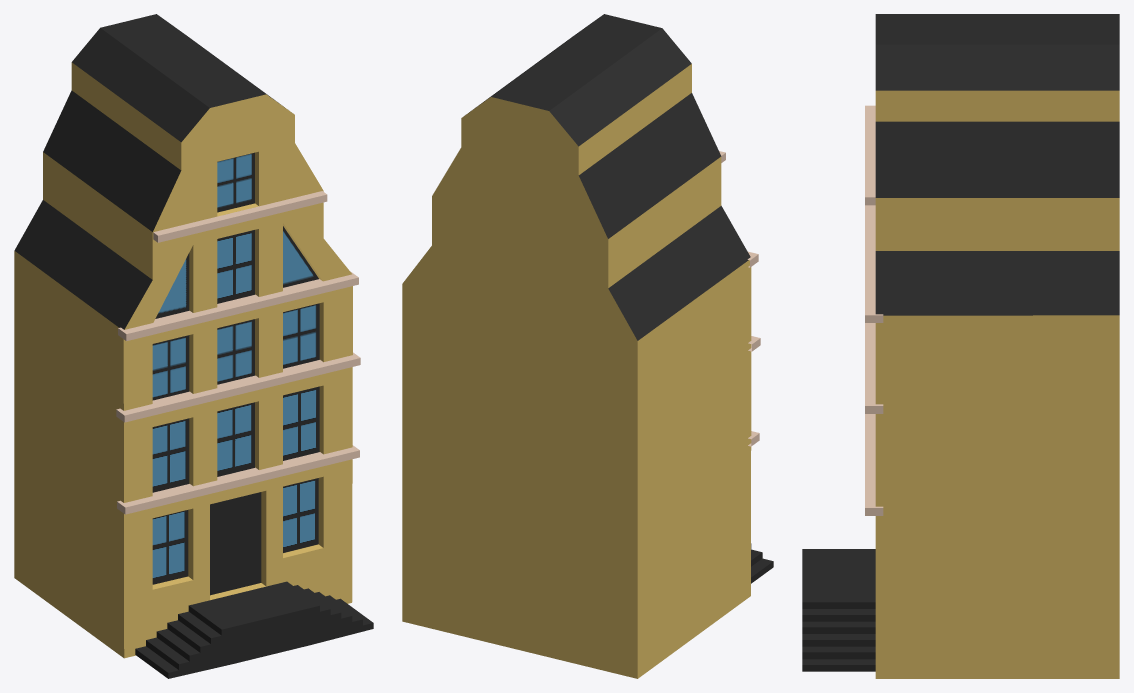
Rendered from HighYellow.obj.
The picture shows the model from 3 angles, left to right: view 1: azimuth 30°, elevation 25°; view 2: azimuth 150°, elevation 25°; view 3: azimuth 270°, elevation 25°; orthographic projection. The views are drawn at different scales.
Parts seen in each view (by area): view 1: WysokiZolty; view 2: WysokiZolty; view 3: WysokiZolty.
Boxes of the visible parts, x1,y1,x2,y2 form: WysokiZolty: [14, 14, 373, 678]; WysokiZolty: [402, 14, 773, 678]; WysokiZolty: [802, 14, 1119, 678].
Size of the model in its own units: 6.21 by 13.31 by 6.5.
